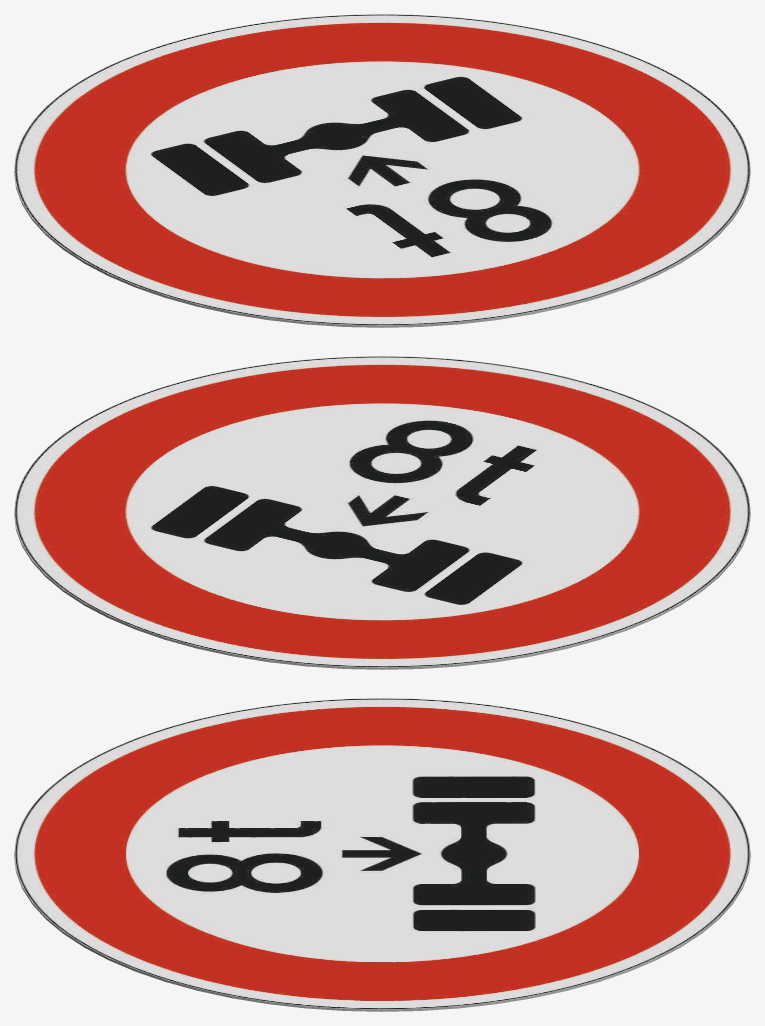
3 views of the same model, one above another, from view 1: azimuth 30°, elevation 25°; view 2: azimuth 150°, elevation 25°; view 3: azimuth 270°, elevation 25° (orthographic).
Visible parts, largest first — view 1: Circle_Schild_Rund; view 2: Circle_Schild_Rund; view 3: Circle_Schild_Rund.
Boxes of the visible parts, x1,y1,x2,y2 form: Circle_Schild_Rund: (14,14,750,327); Circle_Schild_Rund: (14,356,750,669); Circle_Schild_Rund: (14,698,750,1011).
Bounding box in the file's own units: 0.6 × 0.002 × 0.6.
Materials: 2 (1 with a texture image).
